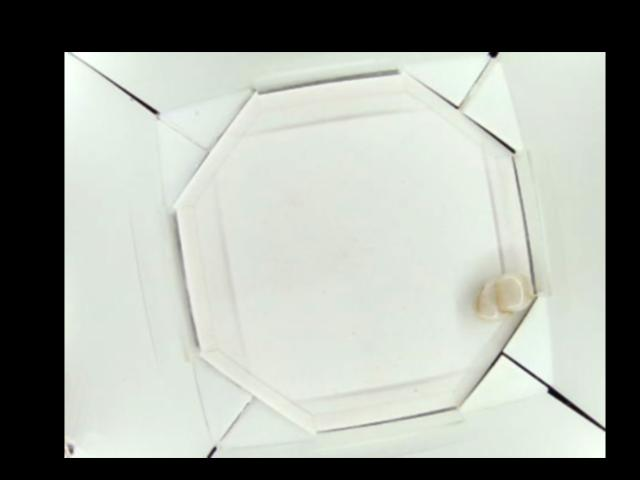Pebble: (477, 276, 526, 320)
